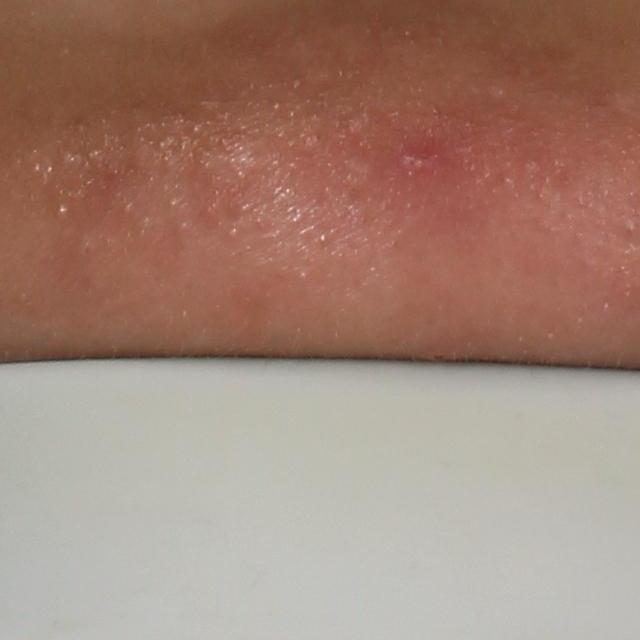papule: (402, 143, 432, 176)
